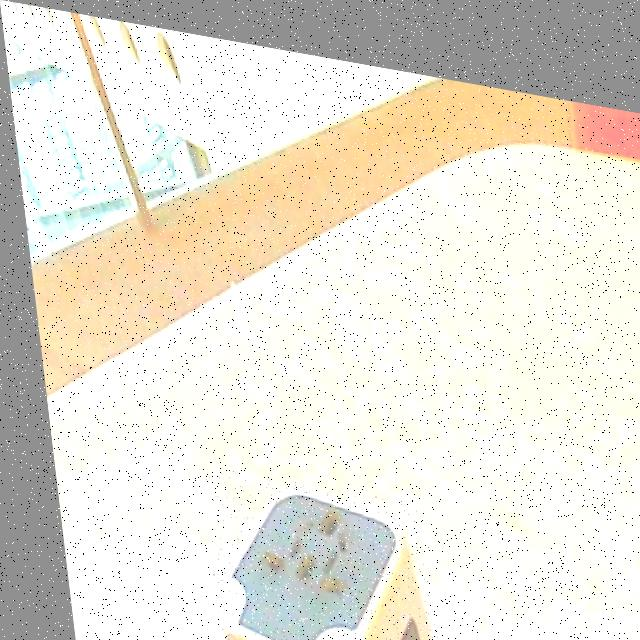adapter: (188, 460, 432, 640)
